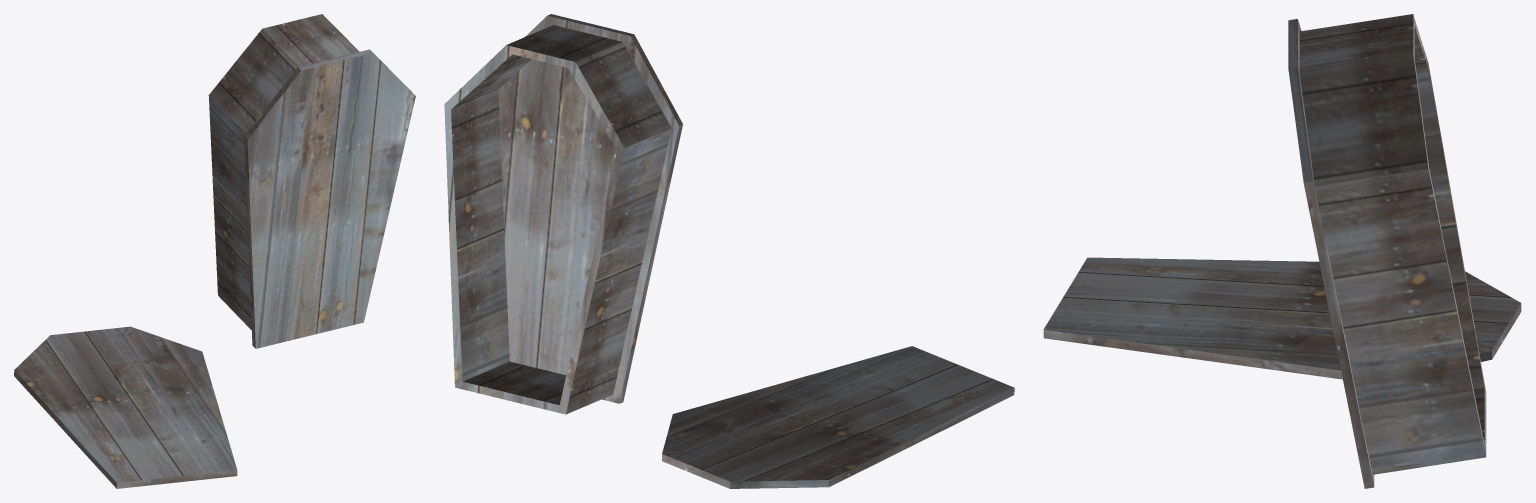
Rendered from opencoffin1.fbx.
The picture shows the model from 3 angles, left to right: view 1: azimuth 30°, elevation 25°; view 2: azimuth 150°, elevation 25°; view 3: azimuth 270°, elevation 25°; orthographic projection. The views are drawn at different scales.
Visible parts, largest first — view 1: opencoffin1; view 2: opencoffin1; view 3: opencoffin1.
Part boxes in pixels (x1,y1,x2,y2): opencoffin1: (14, 14, 415, 488); opencoffin1: (444, 14, 1014, 488); opencoffin1: (1043, 14, 1521, 488).
Bounding box in the file's own units: 12560 × 9911 × 9951.
